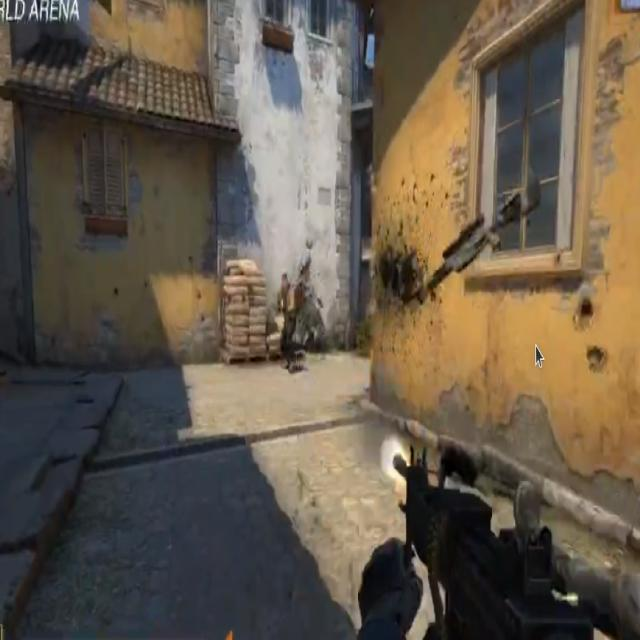person2: (276, 273, 299, 374)
